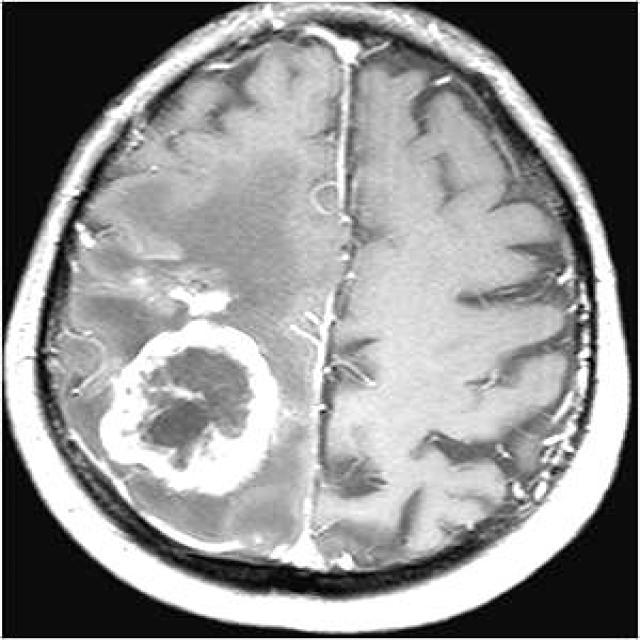Tumor-Cell: (117, 257, 262, 463)
